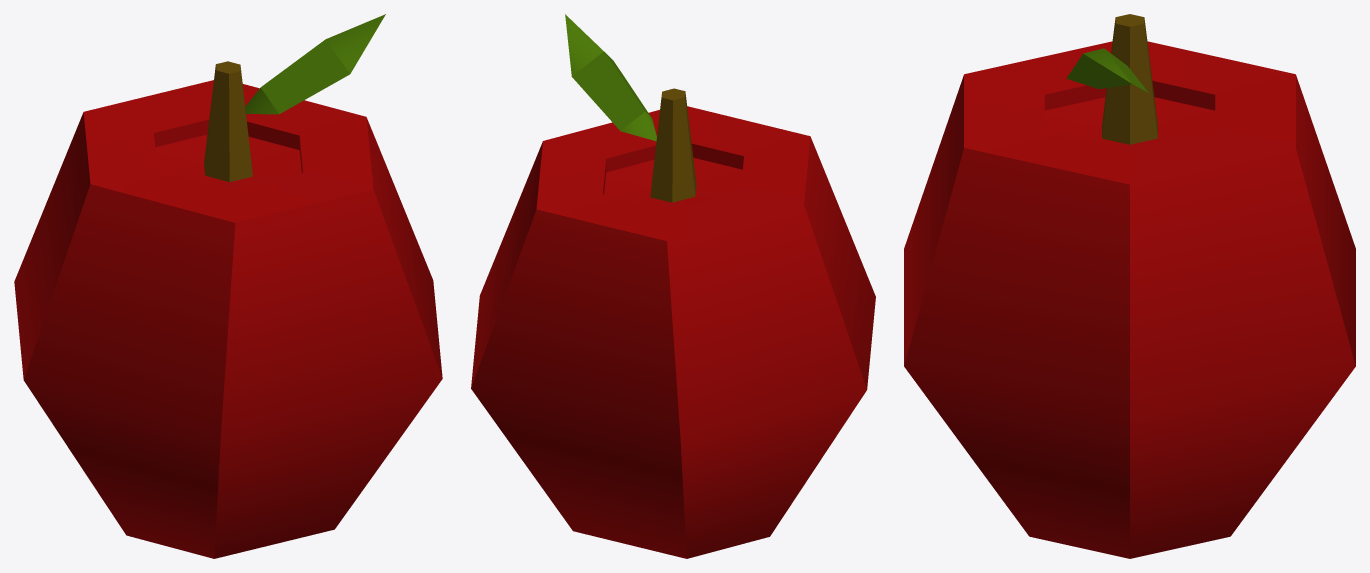
File: apple.fbx
3 views of the same model, side by side, from view 1: azimuth 30°, elevation 25°; view 2: azimuth 150°, elevation 25°; view 3: azimuth 270°, elevation 25° (orthographic). The views are drawn at different scales.
Parts seen in each view (by area): view 1: pCylinder3; view 2: pCylinder3; view 3: pCylinder3.
Boxes of the visible parts, left/top/right/bottom form: pCylinder3: left=14, top=14, right=442, bottom=558; pCylinder3: left=471, top=14, right=875, bottom=558; pCylinder3: left=904, top=14, right=1355, bottom=558.
Size of the model in its own units: 13.44 by 15.02 by 11.74.
